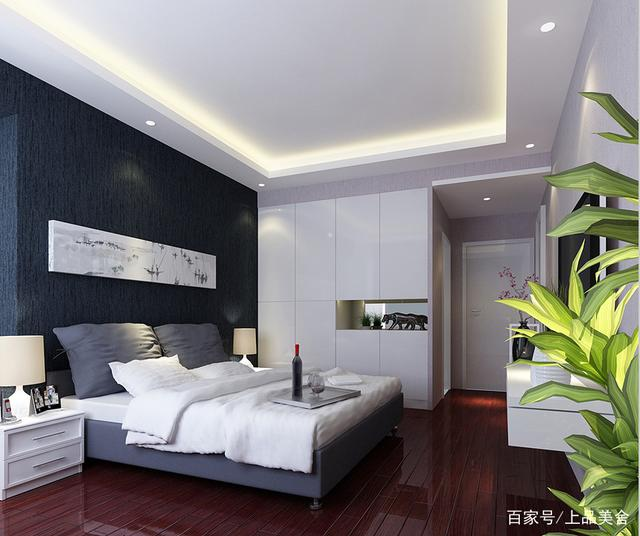床: (84, 359, 398, 498)
枕头: (54, 318, 227, 392)
灯: (0, 334, 43, 427), (229, 327, 258, 373), (540, 21, 562, 36), (479, 194, 498, 207), (524, 140, 541, 153), (142, 119, 161, 129)
